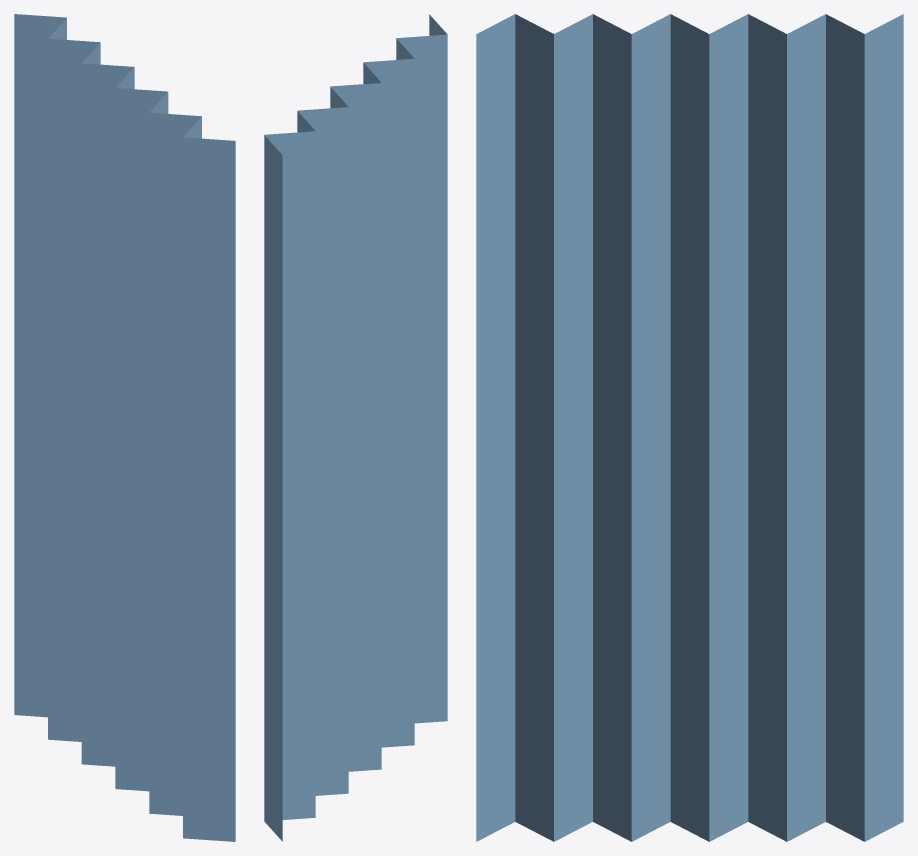
Rendered from curtain.fbx.
3 renders of one model, left to right at view 1: azimuth 30°, elevation 25°; view 2: azimuth 150°, elevation 25°; view 3: azimuth 270°, elevation 25°, orthographic. The views are drawn at different scales.
Parts seen in each view (by area): view 1: curtain; view 2: curtain; view 3: curtain.
Part boxes in pixels (left/top/right/bottom): curtain: left=14, top=14, right=235, bottom=841; curtain: left=264, top=14, right=447, bottom=841; curtain: left=476, top=14, right=903, bottom=841.
Size of the model in its own units: 24.95 by 466 by 223.
